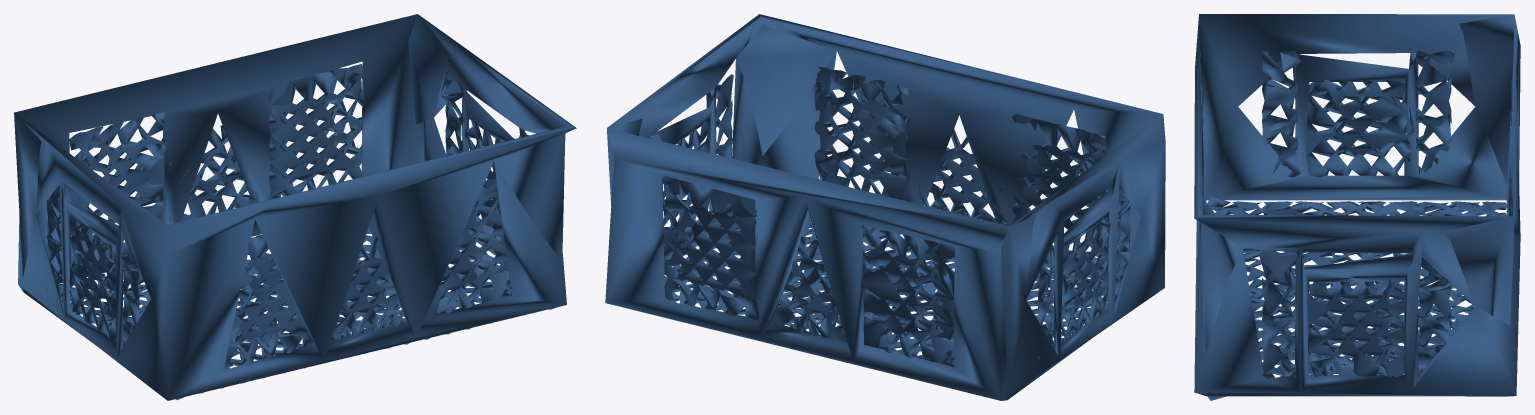
File: SimReadyCrateFar.glb
3 views of the same model, side by side, from view 1: azimuth 30°, elevation 25°; view 2: azimuth 150°, elevation 25°; view 3: azimuth 270°, elevation 25° (orthographic). The views are drawn at different scales.
Parts seen in each view (by area): view 1: sm_crate_a01_mesh_00; view 2: sm_crate_a01_mesh_00; view 3: sm_crate_a01_mesh_00.
Part boxes in pixels (left/top/right/bottom): sm_crate_a01_mesh_00: left=14, top=14, right=576, bottom=400; sm_crate_a01_mesh_00: left=605, top=14, right=1165, bottom=400; sm_crate_a01_mesh_00: left=1194, top=14, right=1520, bottom=400.
Bounding box in the file's own units: 0.6026 × 0.2547 × 0.4023.
1 material, 1 textured.
